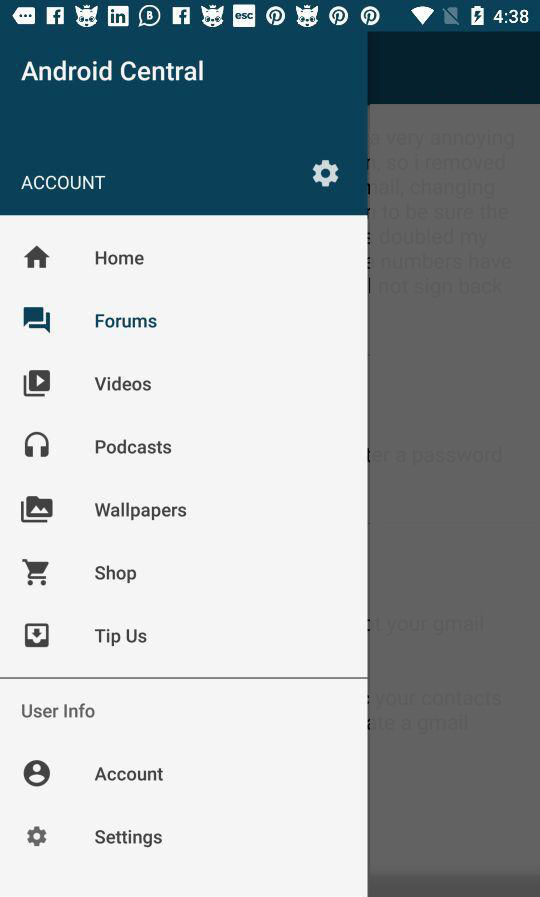Drawer: (1, 33, 367, 897)
Icon: (21, 495, 55, 524), (23, 369, 52, 398), (22, 558, 51, 587), (312, 160, 340, 189), (23, 307, 52, 335), (24, 759, 52, 787), (24, 623, 51, 649), (24, 245, 51, 269), (27, 825, 49, 847)
Image: (25, 432, 51, 459)
Text: (22, 60, 205, 83), (94, 502, 188, 522), (95, 829, 164, 849), (95, 438, 173, 455), (21, 176, 107, 191), (21, 702, 96, 719), (95, 766, 166, 782), (95, 313, 159, 330), (95, 628, 148, 647), (94, 376, 153, 393), (95, 250, 146, 267), (95, 565, 138, 585)
UpperTaskBar: (1, 1, 540, 33)
